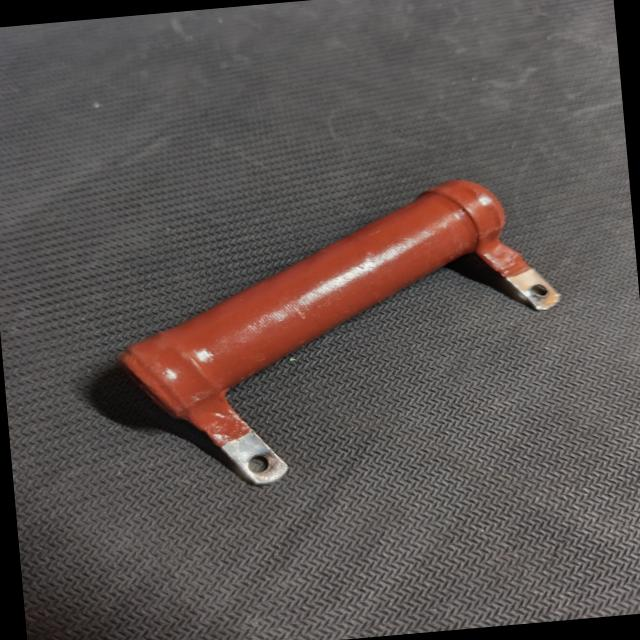resistor: (82, 167, 582, 502)
